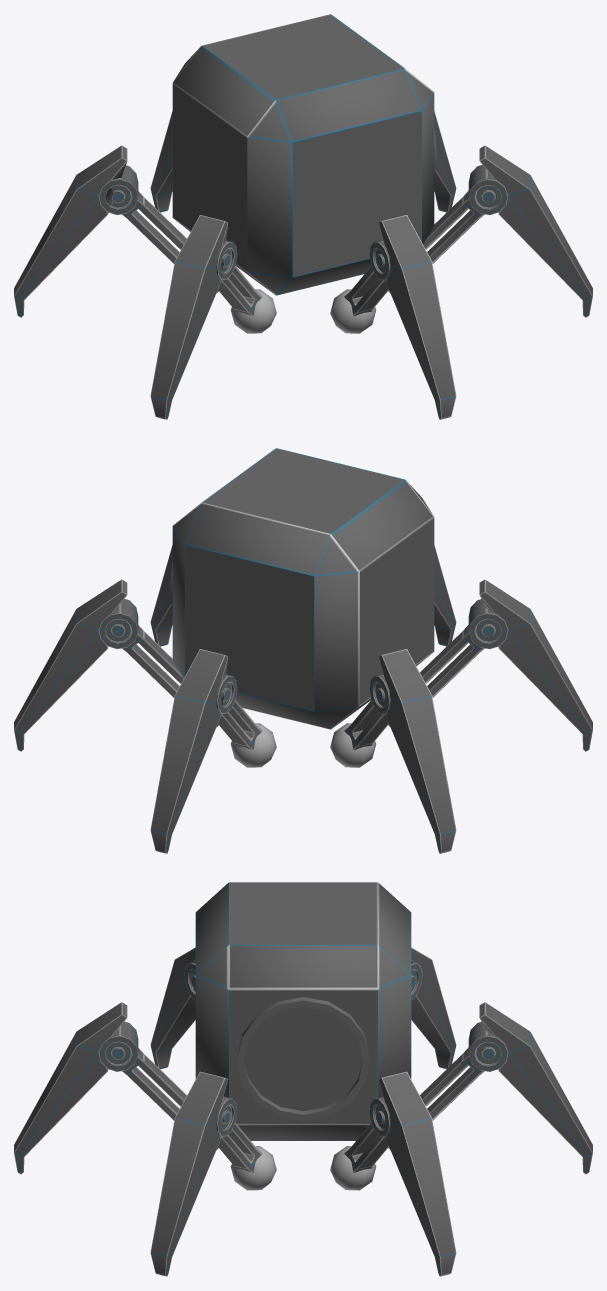
The model's file is ROBOT_vA_01.fbx.
3 views of the same model, one above another, from view 1: azimuth 30°, elevation 25°; view 2: azimuth 150°, elevation 25°; view 3: azimuth 270°, elevation 25° (orthographic).
Visible parts, largest first — view 1: BODY, LowerLeg_6, LowerLeg_5, LowerLeg_3, LowerLeg_4, UpperLeg_3, UpperLeg_4, Knee_4, LowerLeg_2, Knee_3, LowerLeg, UpperLeg_5 (+5 smaller); view 2: BODY, LowerLeg_2, LowerLeg_3, LowerLeg_6, LowerLeg, UpperLeg_6, UpperLeg, Knee, Knee_6, LowerLeg_5, LowerLeg_4, UpperLeg_3 (+5 smaller); view 3: BODY, LowerLeg_4, LowerLeg, LowerLeg_2, LowerLeg_5, Tube, LowerLeg_6, LowerLeg_3, UpperLeg_2, UpperLeg_5, Knee_5, Knee_2 (+6 smaller).
Part boxes in pixels (bbox=[...]): BODY: bbox=[172, 14, 434, 295]; LowerLeg_6: bbox=[150, 215, 227, 419]; LowerLeg_5: bbox=[379, 215, 456, 419]; LowerLeg_3: bbox=[14, 145, 127, 317]; LowerLeg_4: bbox=[479, 145, 592, 317]; UpperLeg_3: bbox=[122, 191, 186, 263]; UpperLeg_4: bbox=[423, 191, 484, 263]; Knee_4: bbox=[468, 164, 508, 215]; LowerLeg_2: bbox=[150, 111, 172, 212]; Knee_3: bbox=[98, 165, 138, 215]; LowerLeg: bbox=[434, 111, 456, 212]; UpperLeg_5: bbox=[344, 266, 388, 316]; BODY: bbox=[172, 448, 434, 729]; LowerLeg_2: bbox=[150, 649, 227, 853]; LowerLeg_3: bbox=[379, 649, 456, 853]; LowerLeg_6: bbox=[479, 579, 592, 751]; LowerLeg: bbox=[14, 579, 127, 751]; UpperLeg_6: bbox=[420, 625, 484, 697]; UpperLeg: bbox=[122, 625, 183, 697]; Knee: bbox=[98, 598, 138, 649]; Knee_6: bbox=[468, 599, 508, 649]; LowerLeg_5: bbox=[434, 545, 456, 646]; LowerLeg_4: bbox=[150, 545, 172, 646]; UpperLeg_3: bbox=[344, 700, 388, 750]; BODY: bbox=[195, 882, 411, 1140]; LowerLeg_4: bbox=[150, 1071, 227, 1276]; LowerLeg: bbox=[379, 1071, 456, 1276]; LowerLeg_2: bbox=[479, 1002, 592, 1174]; LowerLeg_5: bbox=[14, 1002, 127, 1174]; Tube: bbox=[237, 997, 369, 1120]; LowerLeg_6: bbox=[150, 947, 195, 1069]; LowerLeg_3: bbox=[411, 947, 456, 1069]; UpperLeg_2: bbox=[420, 1047, 484, 1120]; UpperLeg_5: bbox=[122, 1047, 186, 1120]; Knee_5: bbox=[98, 1021, 138, 1071]; Knee_2: bbox=[468, 1022, 508, 1071].
Size of the model in its own units: 154 by 85.9 by 175.
Materials: 3 (1 with a texture image).
